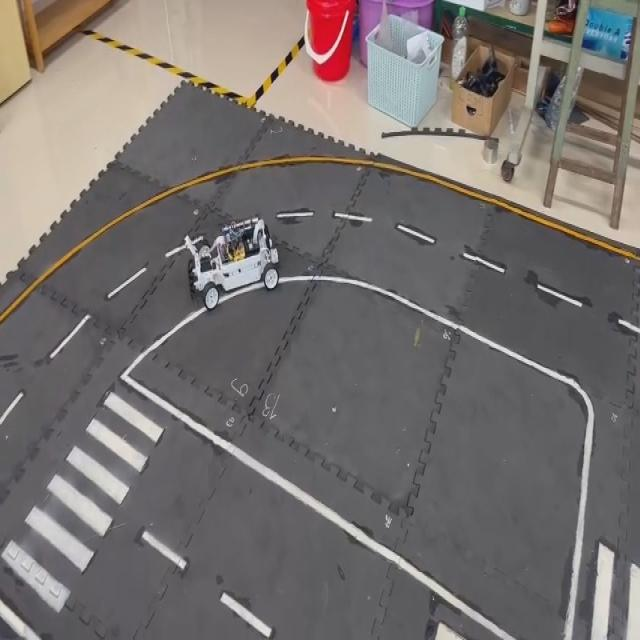SiCo-CAR: (183, 213, 280, 311)
